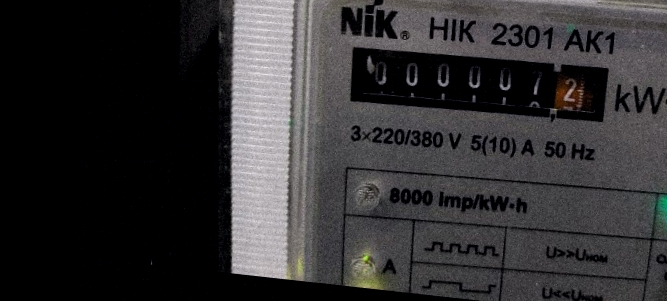0: (370, 56, 390, 85), (433, 58, 452, 88), (402, 58, 421, 87), (496, 63, 514, 93), (465, 61, 484, 89)
2: (561, 75, 579, 103)
7: (527, 66, 545, 97)
screen: (335, 32, 621, 134)
